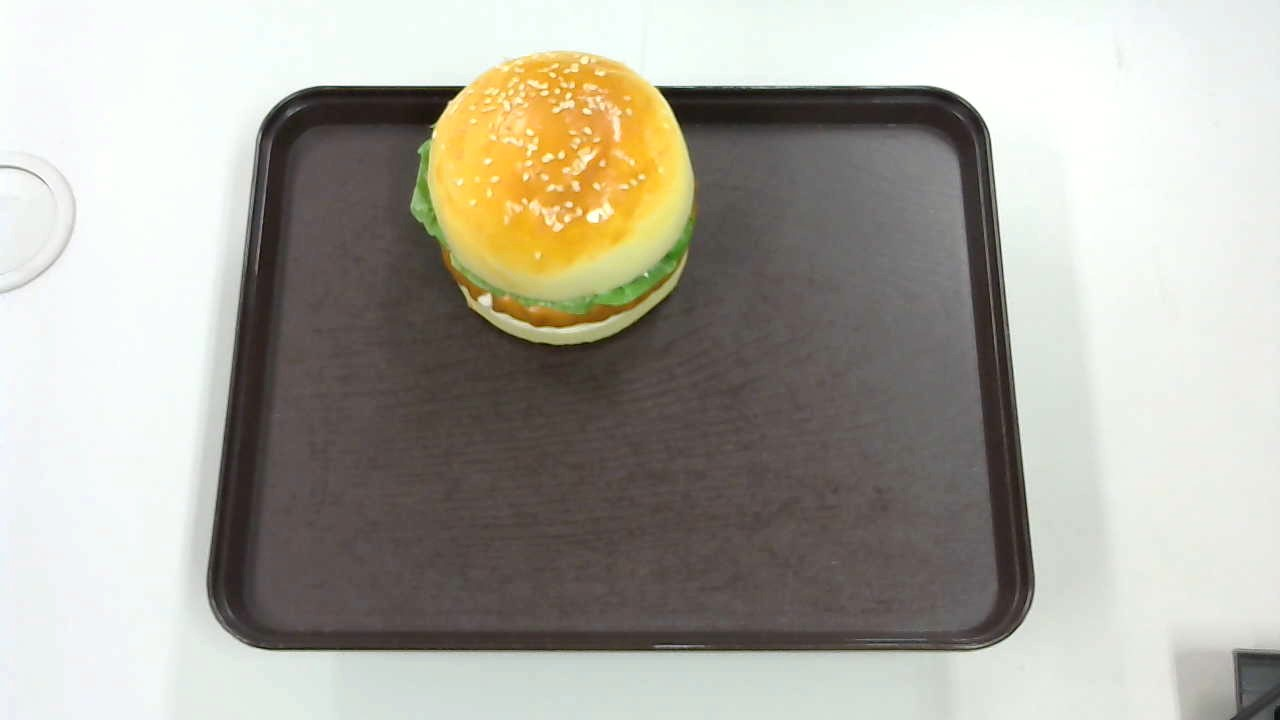hamburger: (411, 50, 696, 347)
